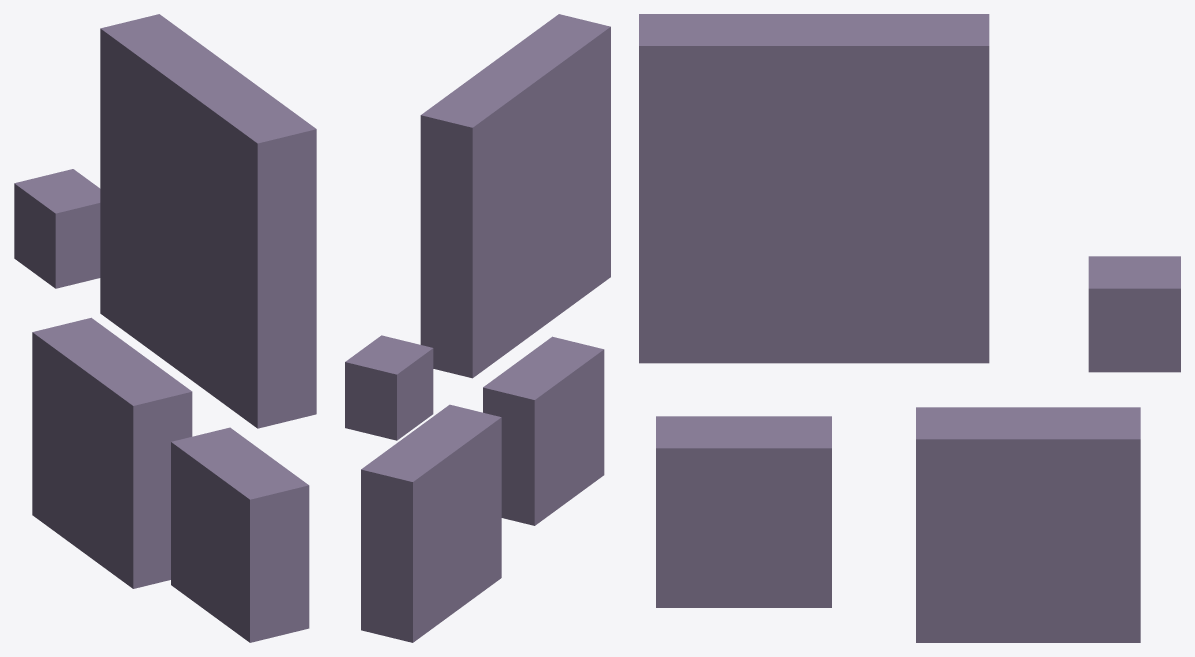
The model's file is Side Rocks 4.glb.
The picture shows the model from 3 angles, left to right: view 1: azimuth 30°, elevation 25°; view 2: azimuth 150°, elevation 25°; view 3: azimuth 270°, elevation 25°; orthographic projection. The views are drawn at different scales.
Parts seen in each view (by area): view 1: Cube.019, Cube.020, Cube.018, Cube.021; view 2: Cube.019, Cube.020, Cube.018, Cube.021; view 3: Cube.019, Cube.020, Cube.018, Cube.021.
Boxes of the visible parts, x1,y1,x2,y2 form: Cube.019: (100, 14, 316, 428); Cube.020: (32, 317, 192, 588); Cube.018: (171, 427, 309, 642); Cube.021: (14, 169, 100, 288); Cube.019: (420, 14, 610, 378); Cube.020: (361, 404, 501, 642); Cube.018: (483, 336, 604, 525); Cube.021: (345, 335, 433, 440); Cube.019: (639, 14, 989, 363); Cube.020: (916, 407, 1140, 642); Cube.018: (656, 416, 831, 607); Cube.021: (1088, 256, 1180, 372).
Size of the model in its own units: 0.144 by 1.25 by 1.03.
